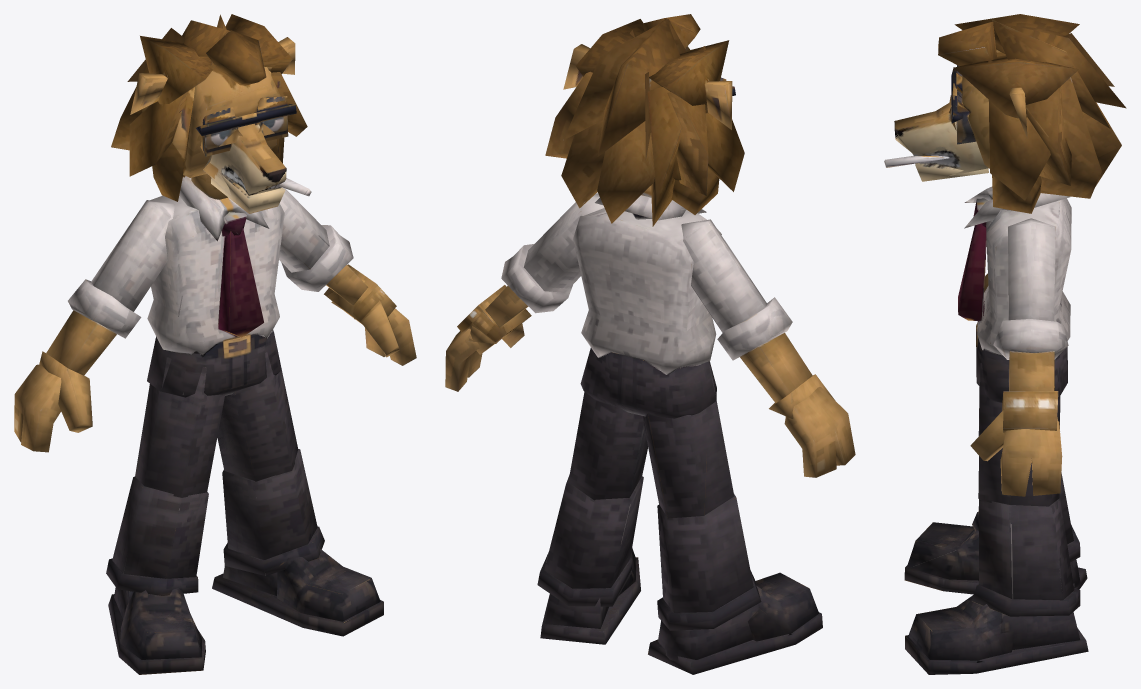
File: crewsboss.glb
3 views of the same model, side by side, from view 1: azimuth 30°, elevation 25°; view 2: azimuth 150°, elevation 25°; view 3: azimuth 270°, elevation 25° (orthographic).
Bounding box in the file's own units: 0.682 × 1 × 0.3704.
Materials: 1 (1 with a texture image).
